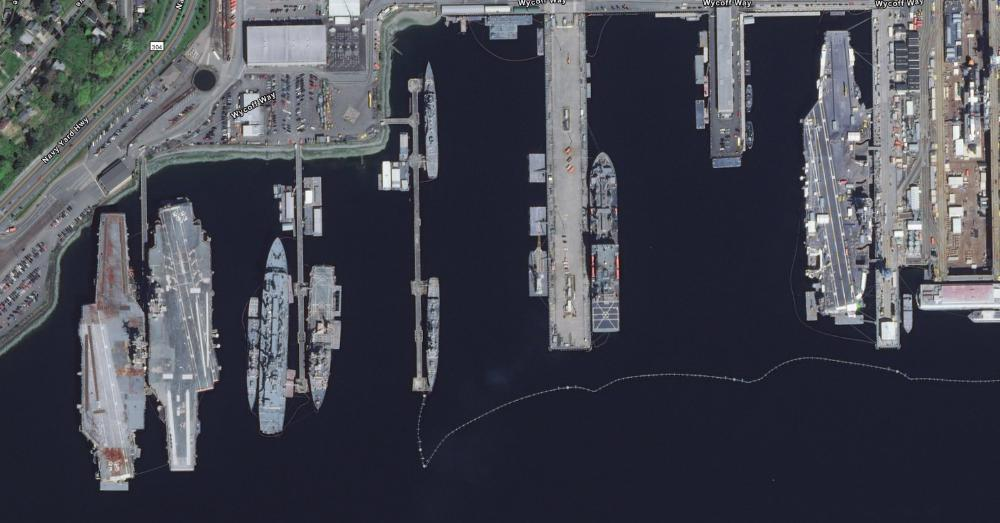carrier: (144, 190, 235, 480), (797, 18, 879, 329), (71, 197, 152, 499)
cruiser: (423, 279, 442, 394), (245, 296, 261, 411), (425, 64, 438, 183)
supply: (588, 151, 626, 337)
tender: (259, 236, 292, 439)
